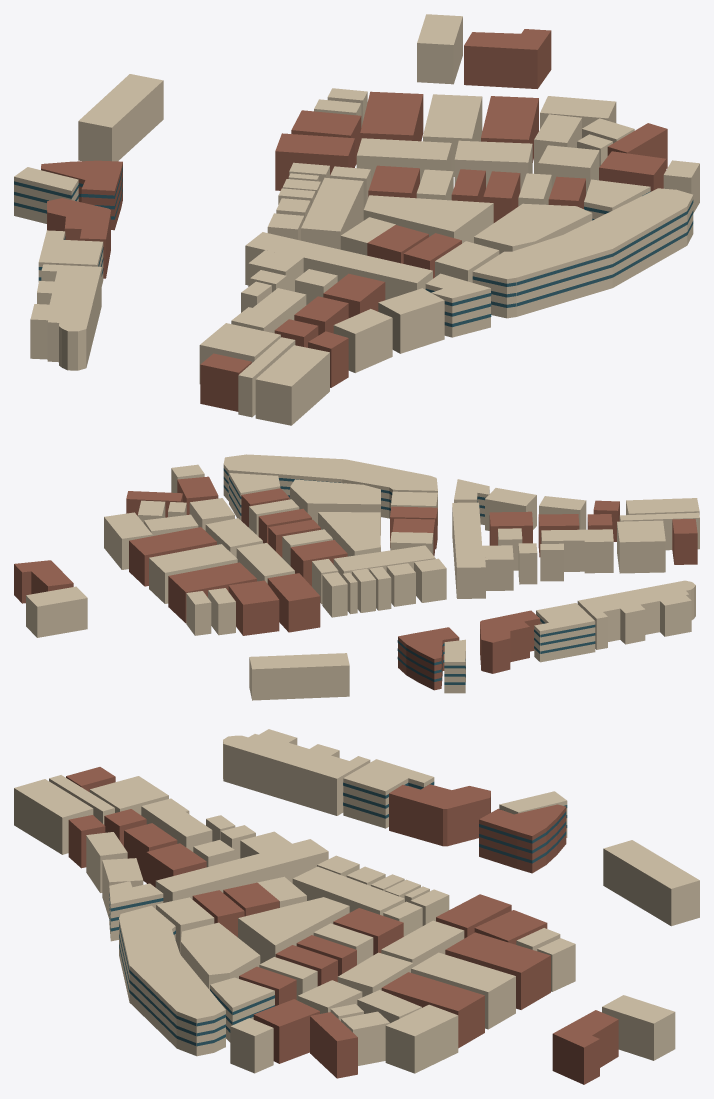
Rendered from city_-1_4.glb.
The picture shows the model from 3 angles, top to bottom: view 1: azimuth 30°, elevation 25°; view 2: azimuth 150°, elevation 25°; view 3: azimuth 270°, elevation 25°; orthographic projection. The views are drawn at different scales.
Parts seen in each view (by area): view 1: city_-1_4; view 2: city_-1_4; view 3: city_-1_4.
Boxes of the visible parts, box(x1,y1,x2,y2) form: city_-1_4: box(14, 14, 699, 425); city_-1_4: box(14, 454, 699, 700); city_-1_4: box(14, 729, 699, 1084).
Size of the model in its own units: 274 by 15 by 250.
